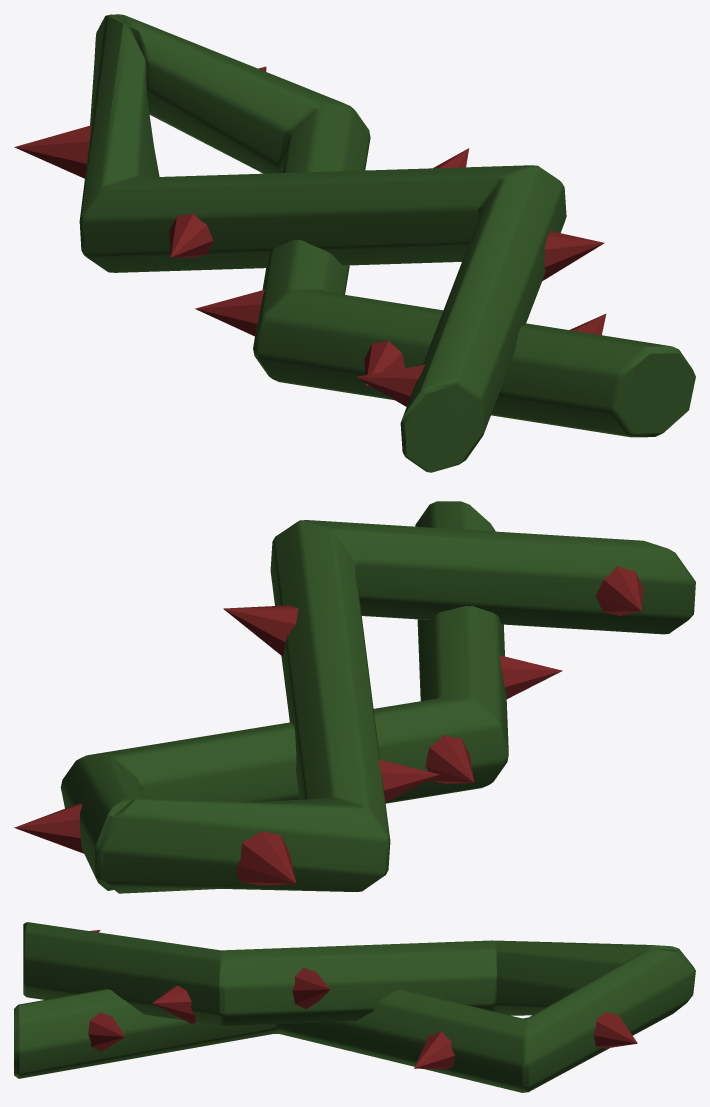
File: vine pointed.fbx
3 renders of one model, top to bottom at view 1: azimuth 30°, elevation 25°; view 2: azimuth 150°, elevation 25°; view 3: azimuth 270°, elevation 25°, orthographic. The views are drawn at different scales.
Visible parts, largest first — view 1: polySurface133; view 2: polySurface133; view 3: polySurface133.
Boxes of the visible parts, x1,y1,x2,y2 form: polySurface133: [14, 14, 695, 472]; polySurface133: [14, 501, 695, 893]; polySurface133: [14, 922, 695, 1092].
Size of the model in its own units: 3.09 by 1.86 by 7.98.
